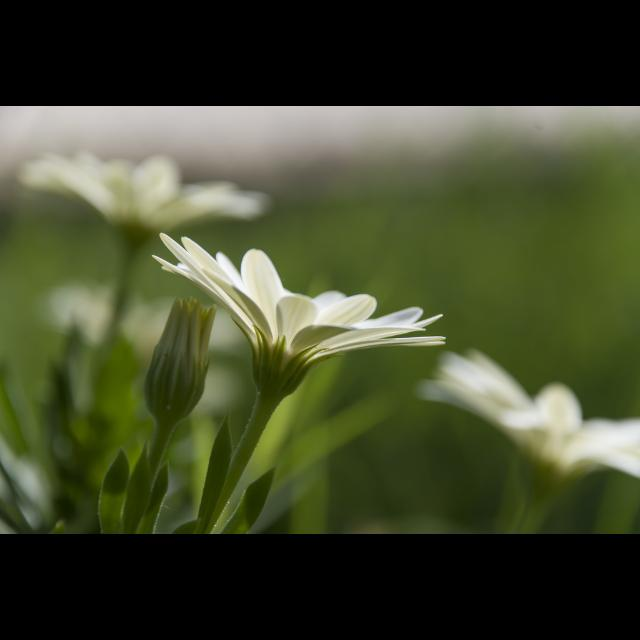Flower: (140, 236, 434, 432), (417, 349, 639, 478), (20, 152, 268, 245)
